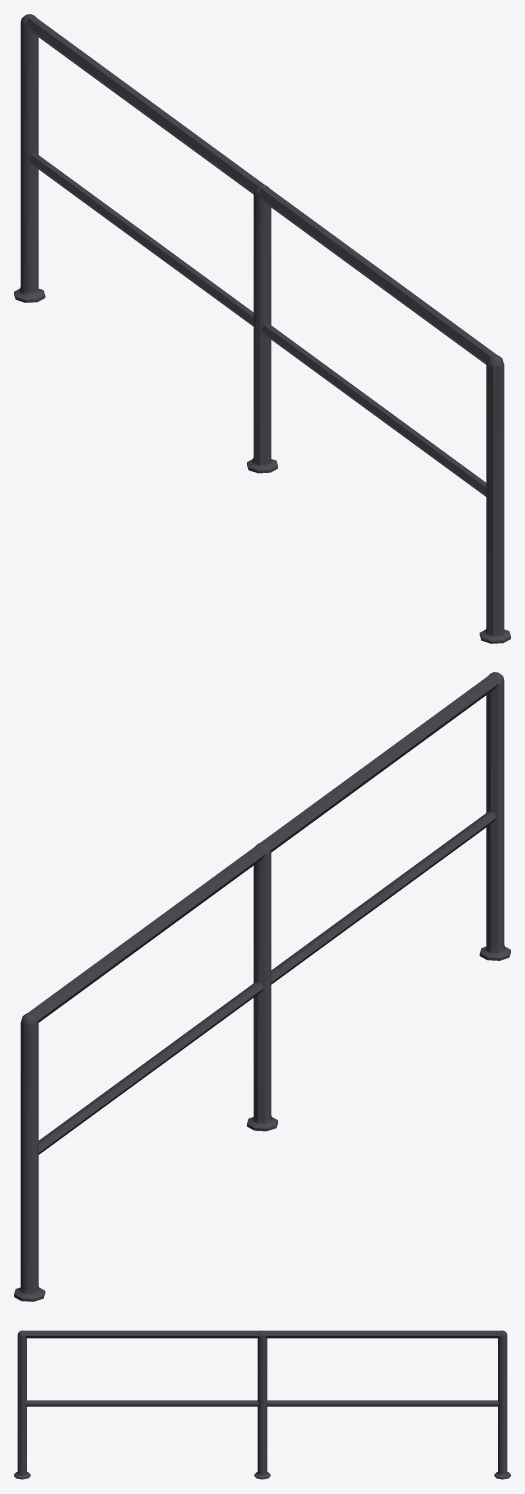
Rendered from gteki_street_guard_rail_3000.glb.
3 renders of one model, top to bottom at view 1: azimuth 30°, elevation 25°; view 2: azimuth 150°, elevation 25°; view 3: azimuth 270°, elevation 25°, orthographic. The views are drawn at different scales.
Visible parts, largest first — view 1: VIS_body; view 2: VIS_body; view 3: VIS_body.
Part boxes in pixels (x1,y1,x2,y2): VIS_body: (14,14,510,643); VIS_body: (14,672,510,1301); VIS_body: (14,1330,510,1479).
Size of what is drawn, in the model's own units: 0.104 by 1 by 3.1.
Materials: 1 (1 with a texture image).
